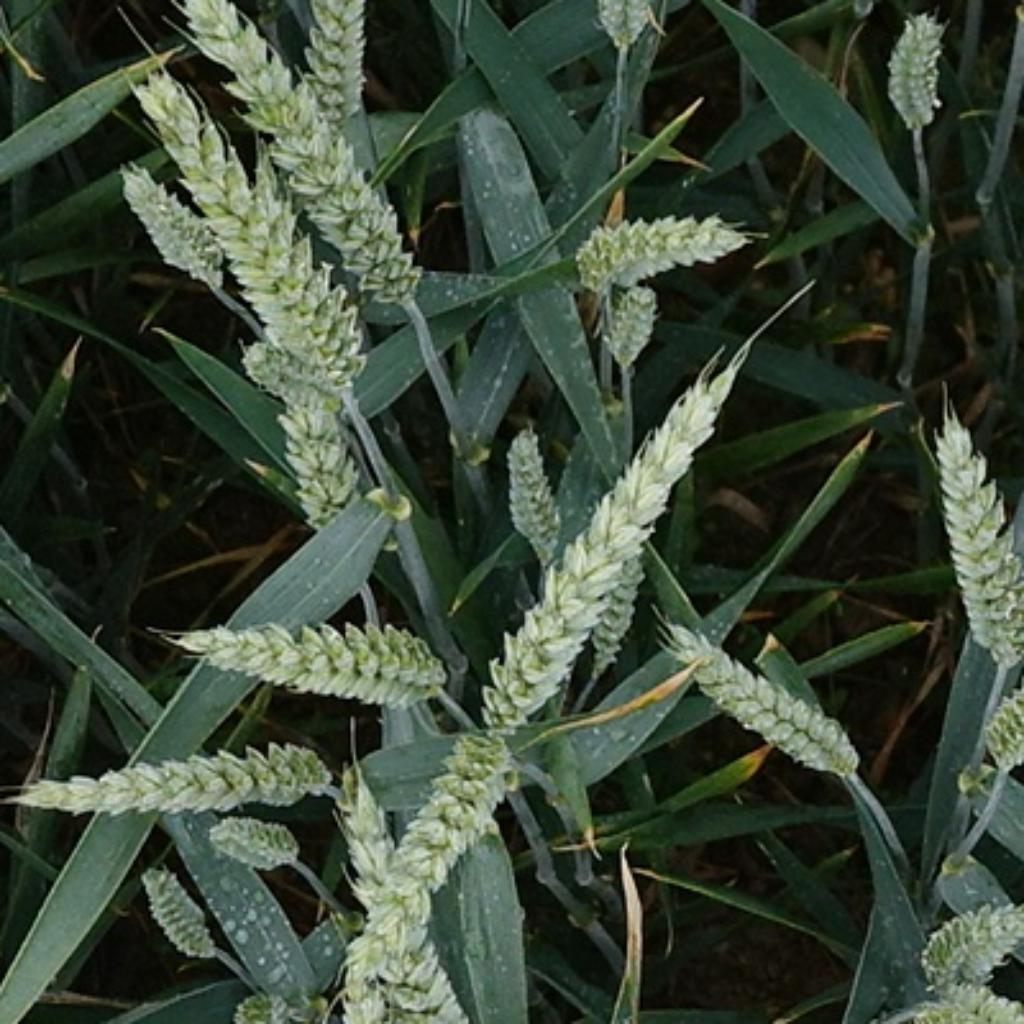0-0: (465, 363, 780, 734), (166, 2, 419, 312), (140, 69, 355, 419), (321, 760, 490, 1024), (340, 737, 519, 973), (665, 619, 869, 789), (2, 730, 346, 822), (167, 611, 454, 711), (913, 412, 1024, 665), (561, 201, 760, 294), (104, 157, 232, 291), (583, 537, 665, 680), (273, 417, 371, 530), (908, 885, 1024, 980), (286, 2, 373, 120), (125, 863, 226, 964), (875, 10, 954, 133), (238, 338, 357, 417), (496, 419, 563, 550), (198, 810, 307, 884), (975, 661, 1024, 784), (600, 286, 669, 365), (583, 2, 675, 61), (220, 980, 304, 1024)
